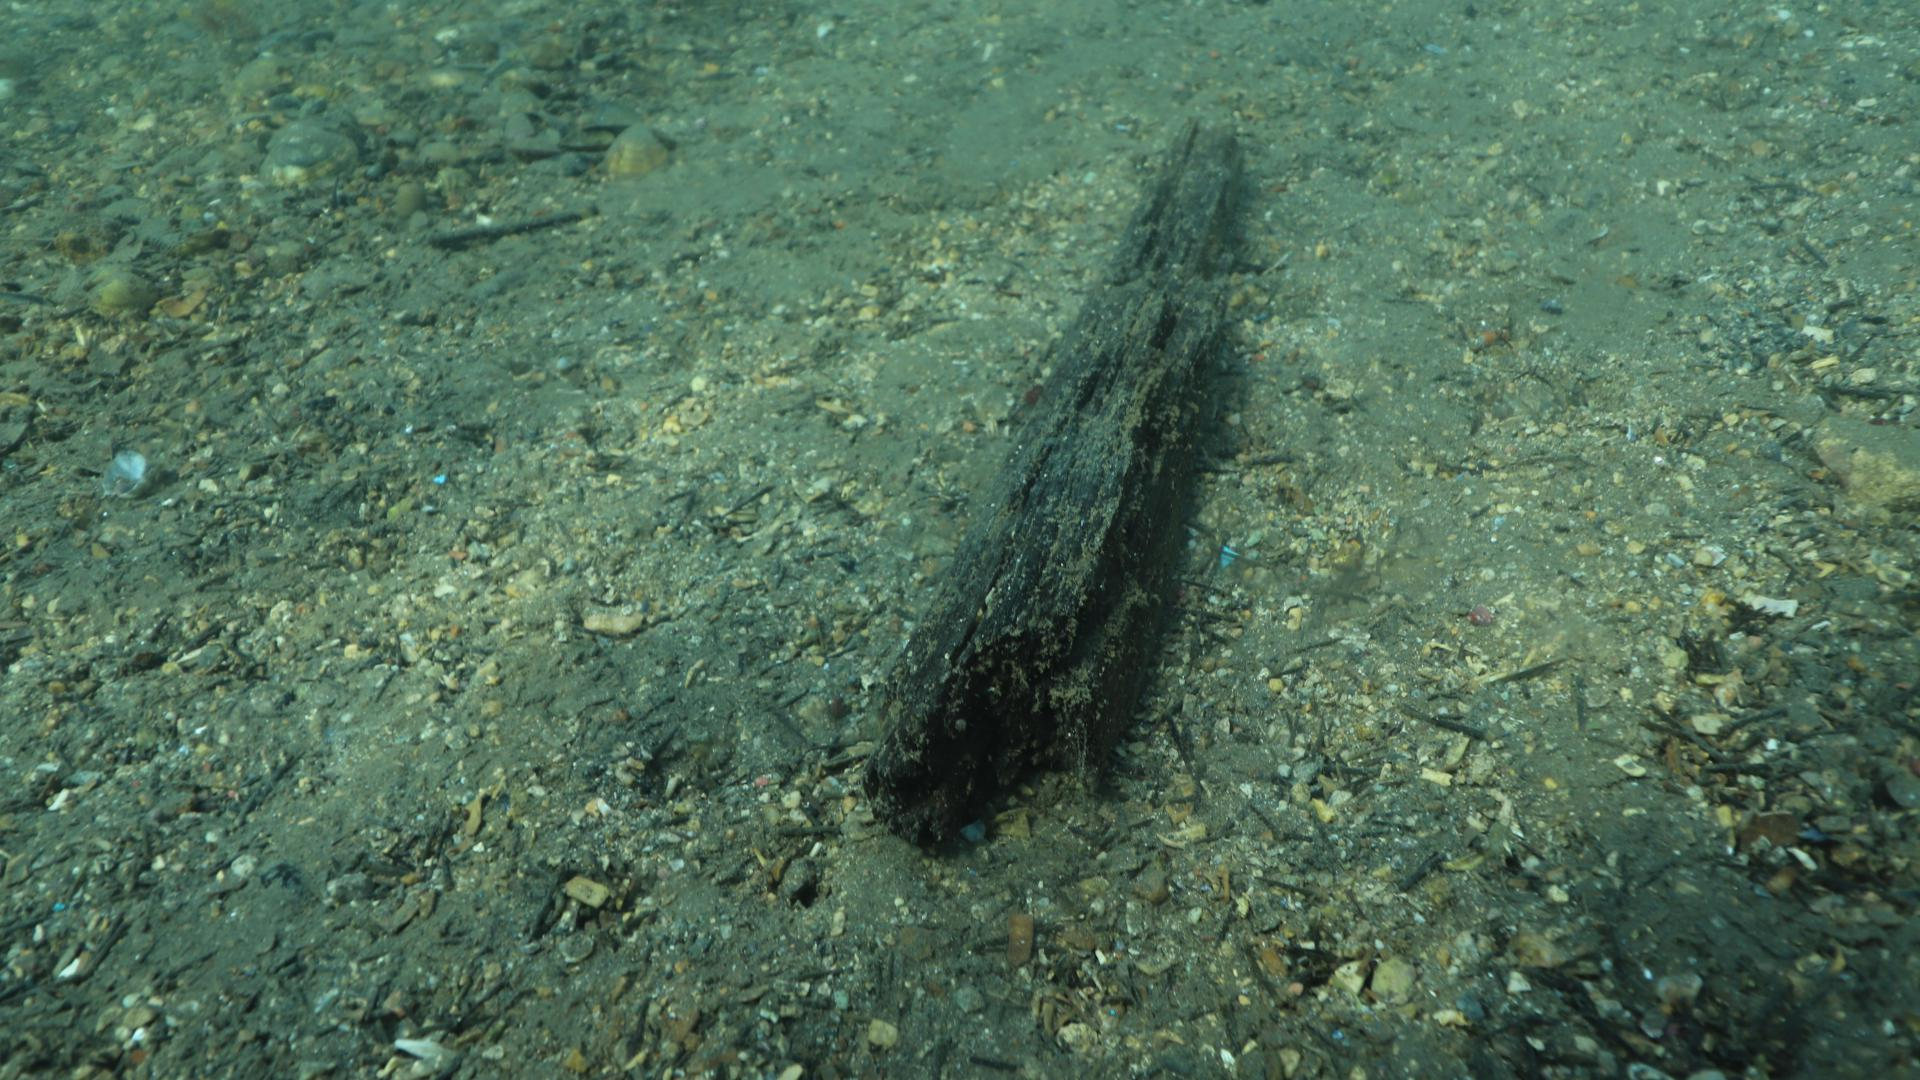wood: (858, 112, 1246, 845)
